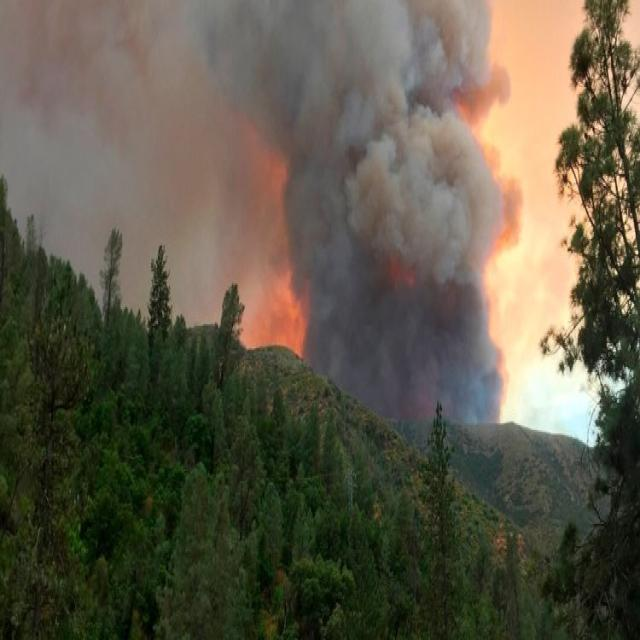smoke: (13, 1, 275, 304), (308, 8, 495, 404)
